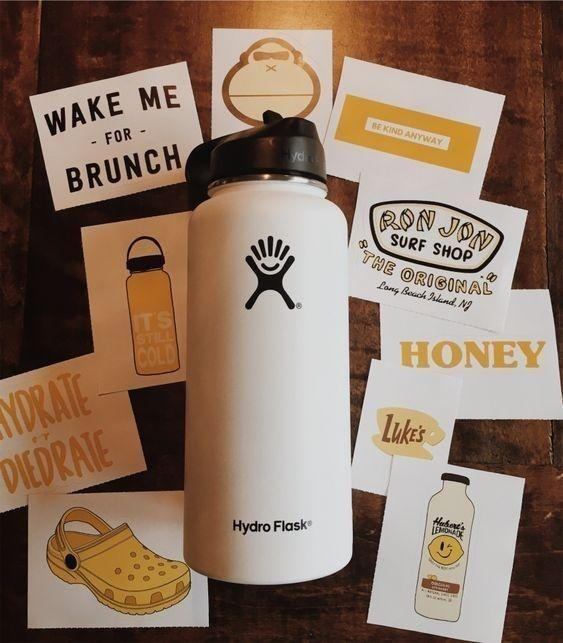gym bottle: (179, 109, 349, 586)
